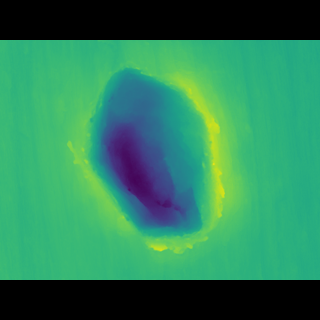Loch: (60, 83, 244, 246)
